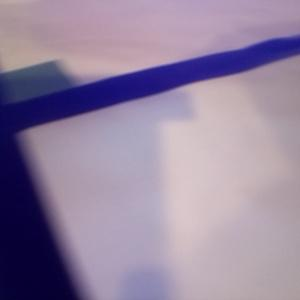top_right: (1, 61, 73, 117)
